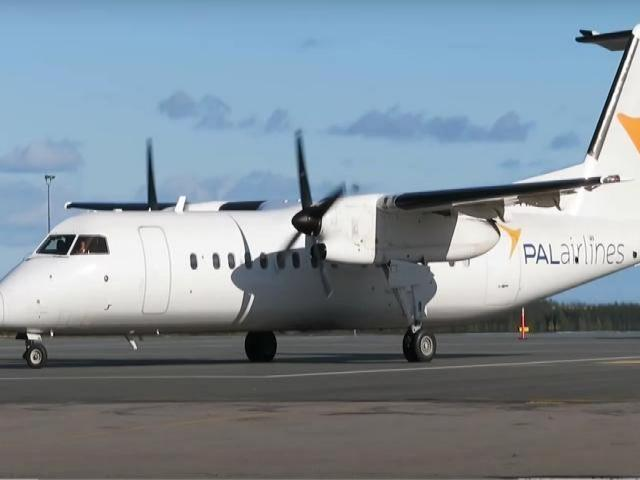iha: (0, 24, 640, 350)
